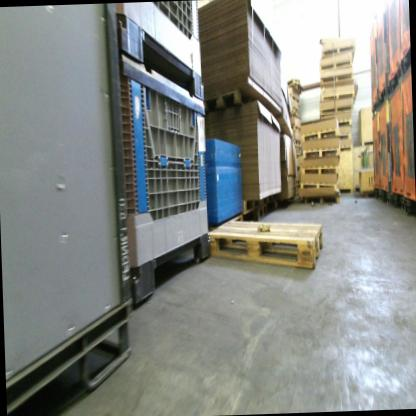pallet: (205, 215, 333, 275), (205, 84, 258, 118), (208, 218, 244, 255), (301, 189, 342, 207), (301, 146, 341, 163), (317, 57, 352, 75), (240, 185, 262, 213), (319, 74, 355, 89), (302, 128, 340, 142), (318, 90, 356, 104), (301, 164, 340, 177), (321, 45, 355, 58), (300, 180, 339, 191), (319, 106, 356, 117), (251, 203, 270, 224), (258, 192, 273, 208), (286, 75, 302, 89), (356, 184, 376, 195), (287, 92, 302, 104), (334, 118, 352, 128), (288, 191, 301, 203), (337, 144, 353, 153), (289, 123, 302, 133), (291, 83, 303, 91), (293, 138, 302, 148), (338, 133, 350, 140), (289, 106, 299, 113), (295, 177, 302, 186), (294, 151, 300, 159), (295, 165, 300, 173)
